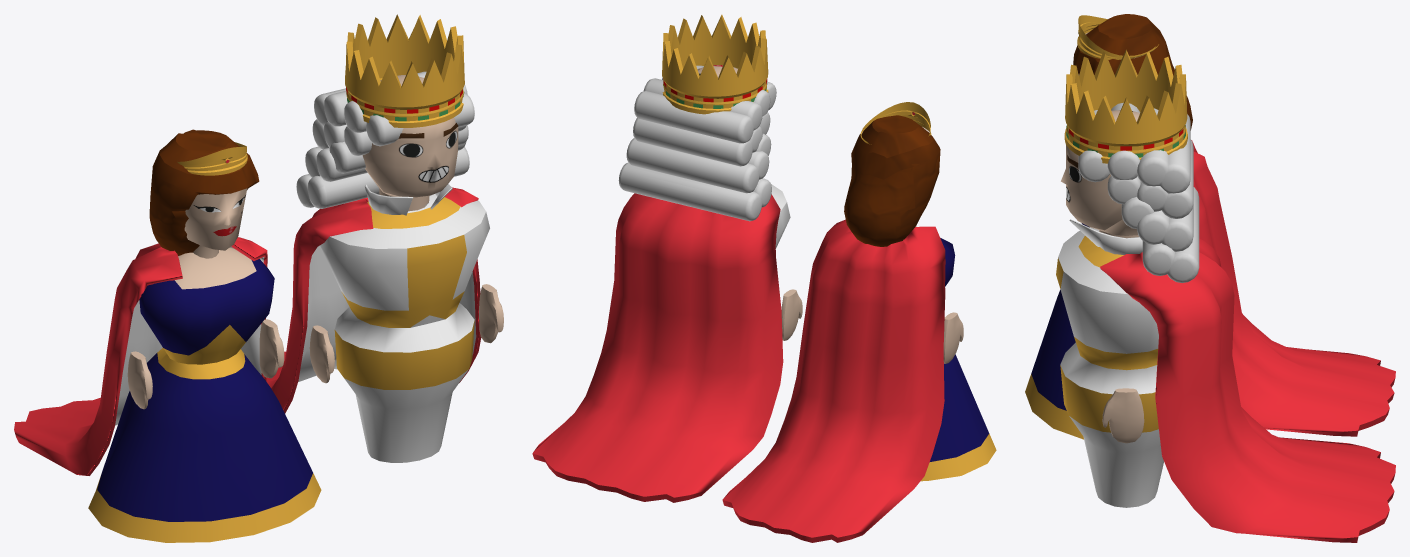
File: re_regina_def.fbx
The picture shows the model from 3 angles, left to right: view 1: azimuth 30°, elevation 25°; view 2: azimuth 150°, elevation 25°; view 3: azimuth 270°, elevation 25°; orthographic projection. The views are drawn at different scales.
Visible parts, largest first — view 1: vestito donna, vestito uomo, testa uomo, testa donna, mani donna, mani uomo; view 2: vestito uomo, vestito donna, testa uomo, testa donna, mani uomo, mani donna; view 3: vestito uomo, testa uomo, vestito donna, testa donna, mani uomo.
Part boxes in pixels (x1,y1,x2,y2): vestito donna: (14, 237, 321, 542); vestito uomo: (266, 184, 489, 462); testa uomo: (296, 14, 474, 211); testa donna: (149, 129, 259, 258); mani donna: (127, 319, 284, 409); mani uomo: (309, 284, 503, 383); vestito uomo: (532, 184, 790, 502); vestito donna: (722, 219, 996, 542); testa uomo: (618, 14, 776, 221); testa donna: (844, 102, 940, 246); mani uomo: (781, 289, 802, 340); mani donna: (943, 312, 963, 363); vestito uomo: (1056, 219, 1395, 542); testa uomo: (1061, 49, 1199, 282); vestito donna: (1025, 140, 1395, 439); testa donna: (1073, 14, 1192, 130); mani uomo: (1102, 388, 1144, 443).
Size of the model in its own units: 2.46 by 2.44 by 1.93.
Materials: 9 (1 with a texture image).
